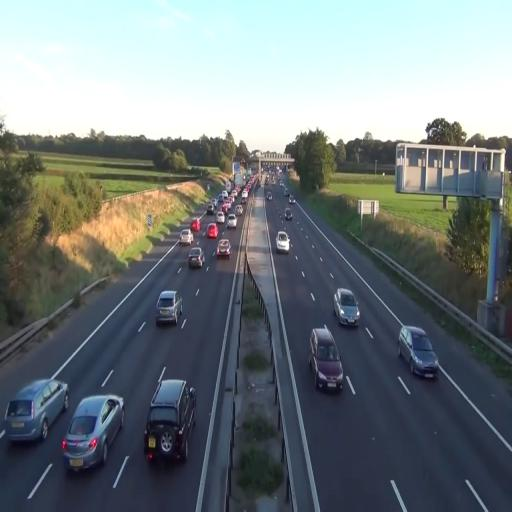vehicle: (61, 394, 125, 472), (144, 377, 197, 463), (4, 377, 69, 444), (308, 327, 344, 393), (398, 324, 438, 379), (156, 291, 186, 328), (334, 288, 360, 328), (188, 246, 206, 270), (276, 229, 290, 253), (216, 238, 231, 258), (179, 228, 193, 246), (226, 210, 238, 229), (206, 222, 218, 240)
